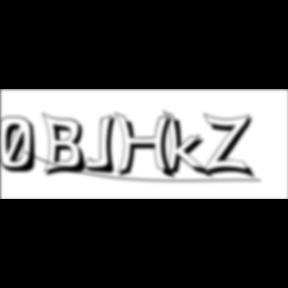0: (0, 115, 44, 174)
B: (42, 111, 92, 179)
H: (114, 112, 180, 182)
J: (84, 114, 122, 176)
Z: (204, 112, 258, 181)
k: (162, 108, 216, 181)
